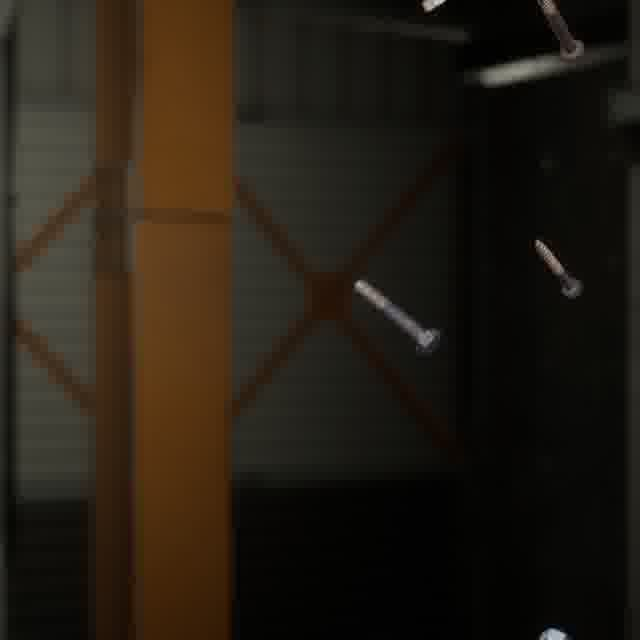bolt: (349, 274, 445, 359), (529, 234, 587, 303), (532, 0, 588, 68)
